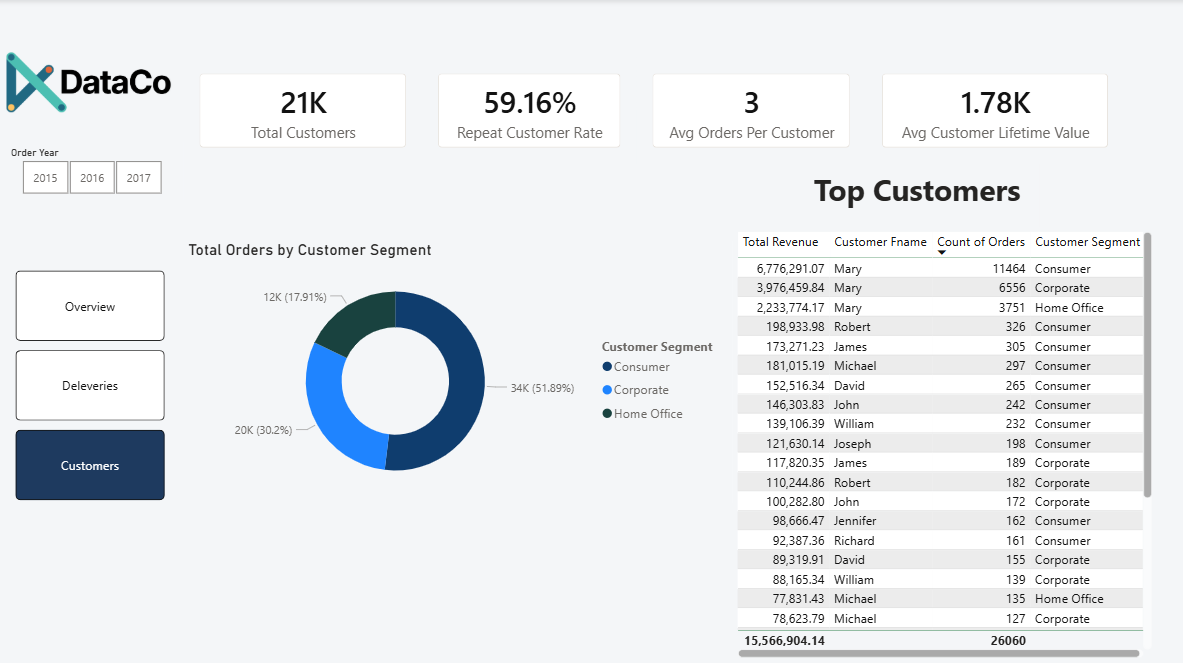

The dashboard page shown, as its layout file describes it:
{"tool":"powerbi","page":{"name":"Customers","canvas":[1280,720],"ordinal":2},"visuals":[{"type":"image","box":[8.1,24.3,179.7,131.2],"z":1000},{"type":"cardVisual","fields":{"Data":["Dataset.Total Customers"]},"box":[199.2,63.1,257.5,115],"z":2000},{"type":"cardVisual","fields":{"Data":["Dataset.Repeat Customer Rate"]},"box":[456.6,63.1,231.5,115],"z":3000},{"type":"cardVisual","fields":{"Data":["Dataset.Avg Orders Per Customer"]},"box":[688.2,63.1,247.7,115],"z":4000},{"type":"donutChart","fields":{"Category":["Dataset.Customer Segment"],"Y":["Dataset.Total Orders"]},"box":[199.2,260.7,592.6,283.4],"z":5000},{"type":"cardVisual","fields":{"Data":["Dataset.Avg Customer Lifetime Value"]},"box":[935.9,63.1,278.5,115],"z":7000},{"type":"tableEx","fields":{"Values":["Dataset.Total Revenue","Dataset.Customer Fname","Dataset.Count of Orders","Dataset.Customer Segment"]},"box":[791.6,246.3,457.4,470],"z":8000},{"type":"textbox","box":[874.6,178.4,248.8,67.9],"z":9000},{"type":"pageNavigator","box":[17.8,293.1,161.9,250],"z":9001},{"type":"slicer","fields":{"Values":["Dataset.Order Year"]},"box":[0,153.8,199.2,63.1],"z":9002}]}

Visuals, with their boxes in screenshot pixels (x1, y1, x2, y2), scaled from the page's 1280x720 canvas onto the 1183x663 screenshot:
image: crop(7, 22, 174, 143)
cardVisual - Dataset.Total Customers: crop(184, 58, 422, 164)
cardVisual - Dataset.Repeat Customer Rate: crop(422, 58, 636, 164)
cardVisual - Dataset.Avg Orders Per Customer: crop(636, 58, 865, 164)
donutChart - Dataset.Customer Segment x Dataset.Total Orders: crop(184, 240, 732, 501)
cardVisual - Dataset.Avg Customer Lifetime Value: crop(865, 58, 1122, 164)
tableEx - Dataset.Total Revenue x Dataset.Customer Fname: crop(732, 227, 1154, 660)
textbox: crop(808, 164, 1038, 227)
pageNavigator: crop(16, 270, 166, 500)
slicer - Dataset.Order Year: crop(0, 142, 184, 200)
